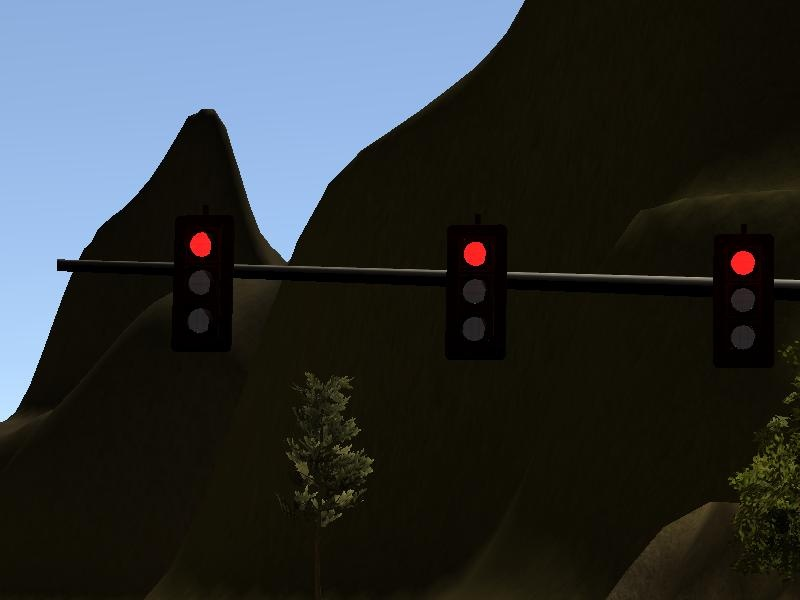red: (714, 235, 774, 370), (175, 217, 233, 355), (448, 228, 508, 360)
